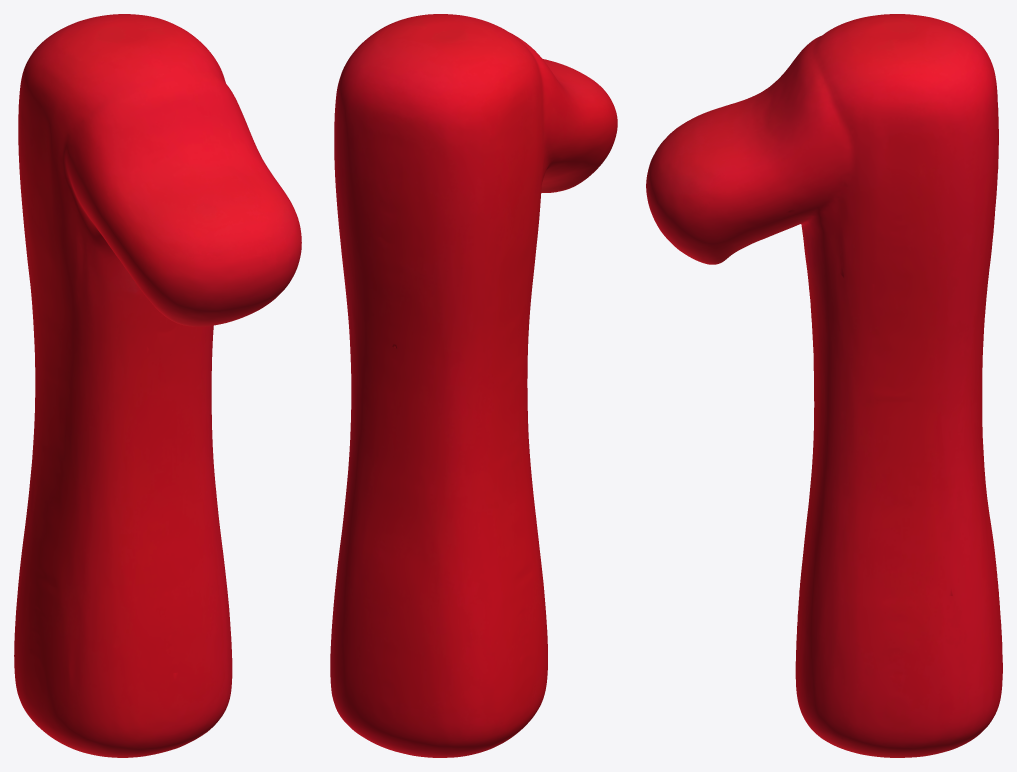
Rendered from Number1.fbx.
3 views of the same model, side by side, from view 1: azimuth 30°, elevation 25°; view 2: azimuth 150°, elevation 25°; view 3: azimuth 270°, elevation 25° (orthographic).
Parts seen in each view (by area): view 1: tripo_node_df78aa86-359d-4a00-9485-080cf4a4ebe5; view 2: tripo_node_df78aa86-359d-4a00-9485-080cf4a4ebe5; view 3: tripo_node_df78aa86-359d-4a00-9485-080cf4a4ebe5.
Boxes of the visible parts, <box> form: tripo_node_df78aa86-359d-4a00-9485-080cf4a4ebe5: <box>14,14,301,757</box>; tripo_node_df78aa86-359d-4a00-9485-080cf4a4ebe5: <box>330,14,617,757</box>; tripo_node_df78aa86-359d-4a00-9485-080cf4a4ebe5: <box>646,14,1002,757</box>.
Bounding box in the file's own units: 24.87 × 94.97 × 43.43.
Materials: 1 (1 with a texture image).
